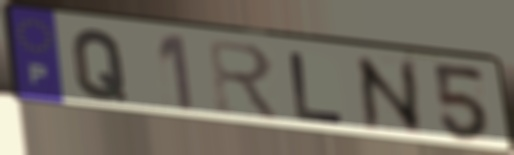1: (152, 31, 196, 115)
5: (430, 59, 492, 146)
L: (285, 49, 349, 127)
N: (351, 53, 429, 136)
Q: (69, 27, 130, 104)
R: (204, 36, 285, 124)
